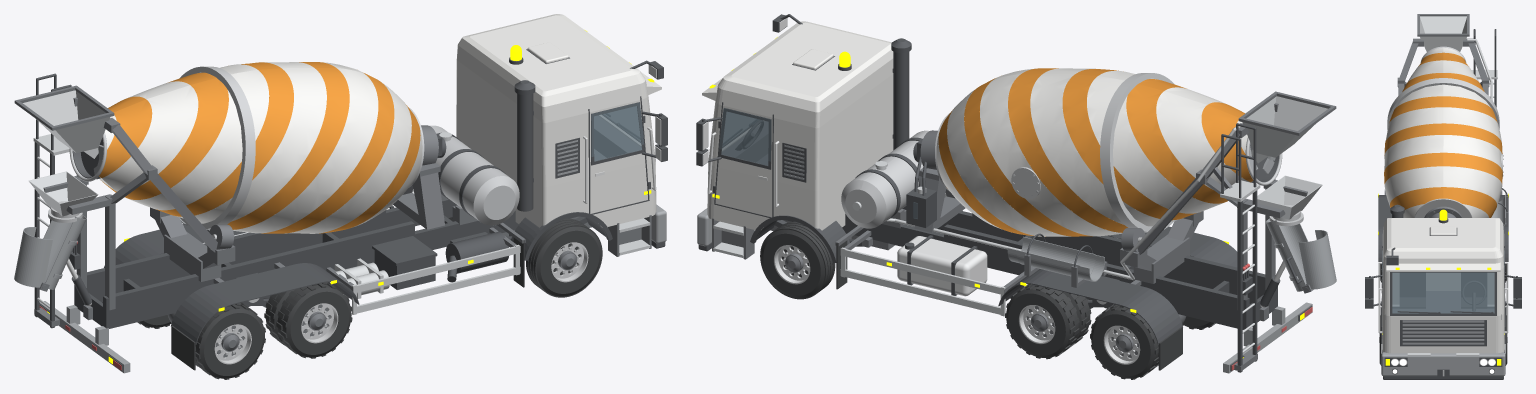
The model's file is concrete-mixer-truck-8m3.glb.
3 views of the same model, side by side, from view 1: azimuth 30°, elevation 25°; view 2: azimuth 150°, elevation 25°; view 3: azimuth 270°, elevation 25° (orthographic). The views are drawn at different scales.
Visible parts, largest first — view 1: cab, tie_rod, drum_band_2, hub_front_L, tyre_front_L, step_treads, wheel_nuts_front_L, spare_chutes, cab_side_vent_slats, windscreen, rim_front_L, door_handle; view 2: cab, tie_rod, drum_band_2, hub_front_L, tyre_front_L, step_treads, wheel_nuts_front_L, spare_chutes, door_handle, windscreen, cab_side_vent_slats, rim_front_L; view 3: cab, tie_rod, drum_band_2, windscreen, cab_side_vent_slats, hub_front_L, step_treads, wheel_nuts_front_L, door_handle, tyre_front_L, side_repeater, spare_chutes (+1 smaller).
Boxes of the visible parts, left/top/right/bottom form: cab: left=99, top=14, right=661, bottom=233; tie_rod: left=34, top=49, right=667, bottom=370; drum_band_2: left=99, top=62, right=420, bottom=233; hub_front_L: left=14, top=85, right=655, bottom=357; tyre_front_L: left=102, top=217, right=602, bottom=379; step_treads: left=23, top=90, right=650, bottom=314; wheel_nuts_front_L: left=48, top=66, right=579, bottom=355; spare_chutes: left=14, top=215, right=187, bottom=289; cab_side_vent_slats: left=39, top=140, right=666, bottom=373; windscreen: left=591, top=102, right=643, bottom=161; rim_front_L: left=214, top=242, right=588, bottom=364; door_handle: left=66, top=65, right=661, bottom=306; cab: left=702, top=21, right=1253, bottom=236; tie_rod: left=696, top=14, right=1312, bottom=372; drum_band_2: left=938, top=68, right=1253, bottom=236; hub_front_L: left=708, top=91, right=1336, bottom=371; tyre_front_L: left=760, top=221, right=1250, bottom=379; step_treads: left=713, top=96, right=1327, bottom=352; wheel_nuts_front_L: left=782, top=73, right=1303, bottom=355; spare_chutes: left=1007, top=218, right=1336, bottom=291; door_handle: left=702, top=18, right=1285, bottom=307; windscreen: left=719, top=108, right=917, bottom=218; cab_side_vent_slats: left=697, top=143, right=1312, bottom=373; rim_front_L: left=774, top=245, right=1140, bottom=364; cab: left=1382, top=47, right=1504, bottom=353; tie_rod: left=1365, top=29, right=1521, bottom=379; drum_band_2: left=1384, top=52, right=1502, bottom=217; windscreen: left=1382, top=251, right=1504, bottom=313; cab_side_vent_slats: left=1381, top=189, right=1505, bottom=376; hub_front_L: left=1379, top=14, right=1508, bottom=352; step_treads: left=1381, top=16, right=1505, bottom=355; wheel_nuts_front_L: left=1387, top=46, right=1503, bottom=376; door_handle: left=1378, top=262, right=1508, bottom=365; tyre_front_L: left=1379, top=264, right=1507, bottom=365; side_repeater: left=1378, top=193, right=1508, bottom=365; spare_chutes: left=1491, top=190, right=1505, bottom=226.
Size of the model in its own units: 9.47 by 4.01 by 3.07.
